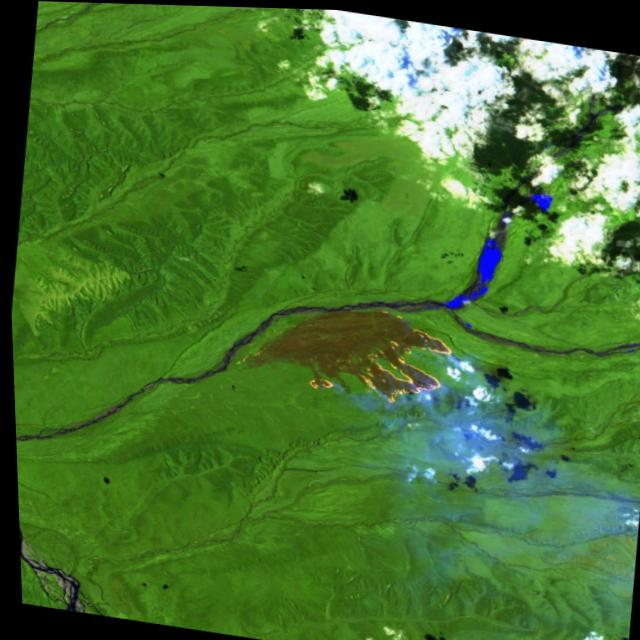fire: (283, 292, 467, 411)
